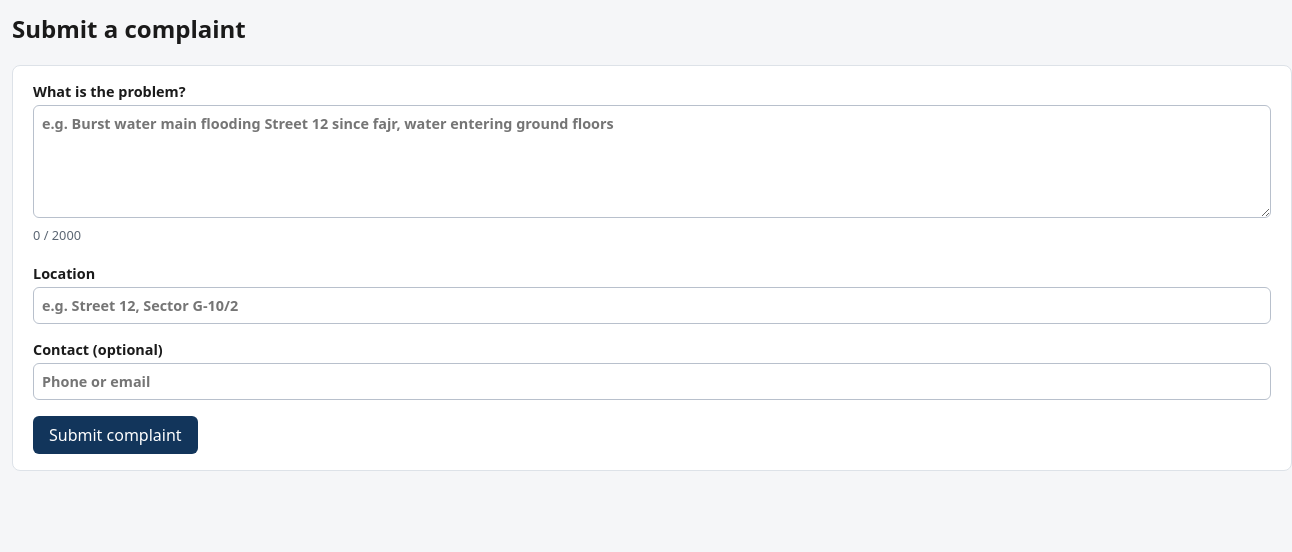
it: SubmitPage › shows the retry time when rate limited
The width and height of the screenshot is (1292, 552).
Type "Burst water main flooding Street 12" into the text box labelled "What is the problem? 0 / 2000" at [652, 161], box [33,105,1271,218]
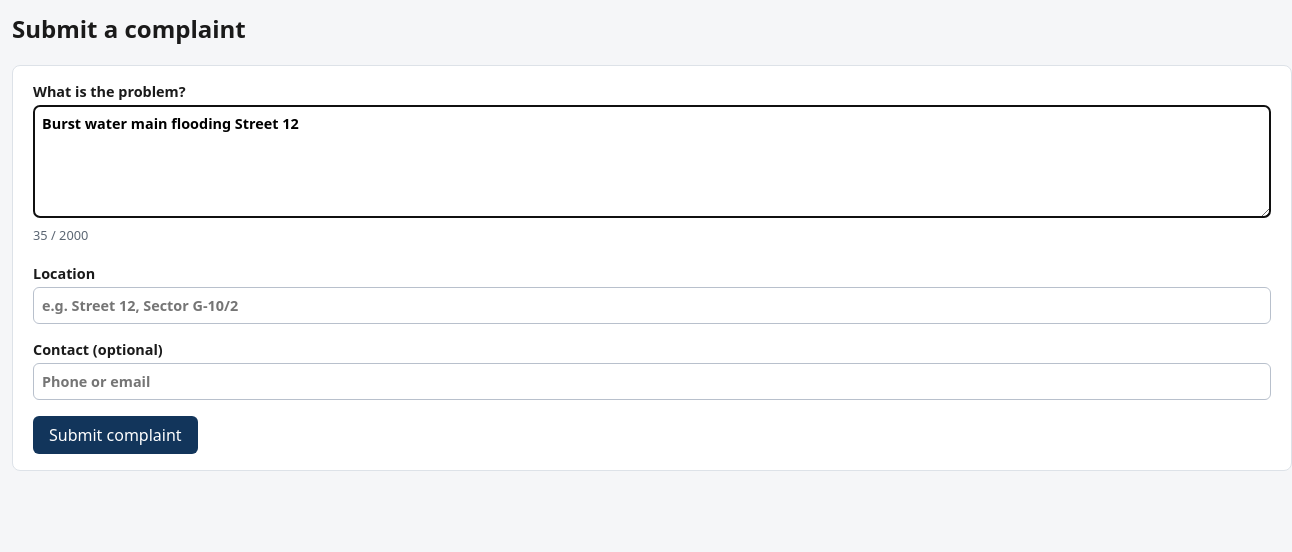
Type "Street 12" into the field labelled "Location" at [652, 305], box [33,287,1271,324]
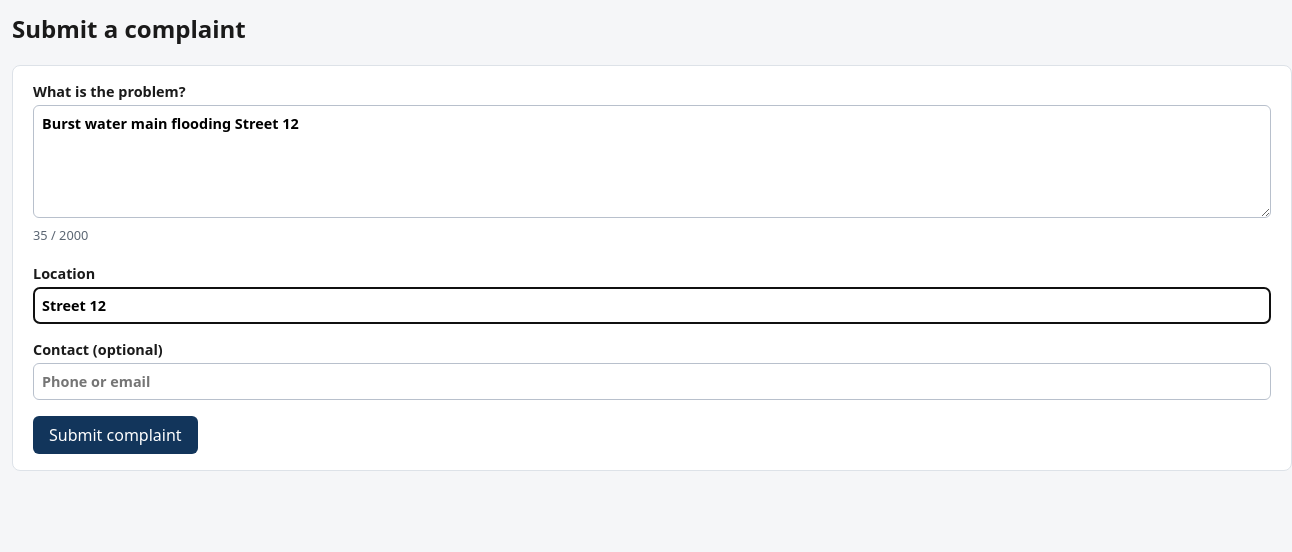
Click the button "Submit complaint" at [115, 435], box [33,416,198,454]
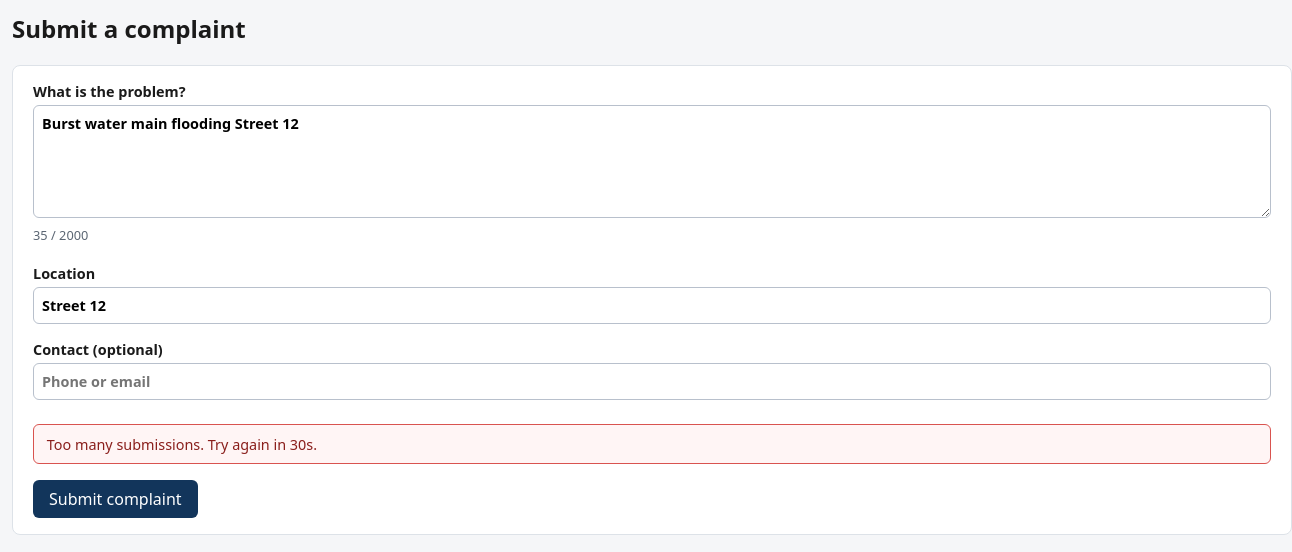
Now the message shows "Try again in 30s", box [47,434,317,454]
